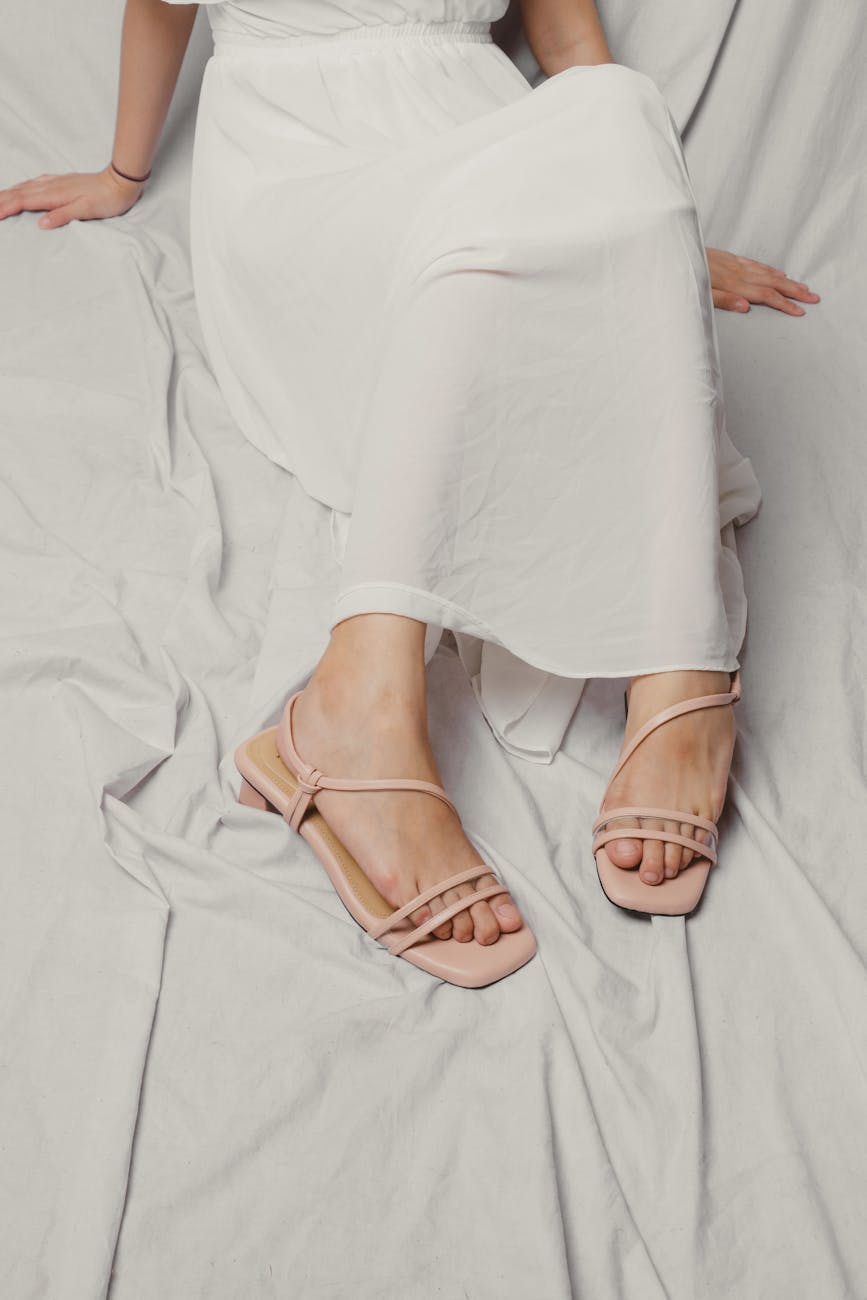opened_foot: (219, 599, 559, 982), (585, 657, 754, 927)
